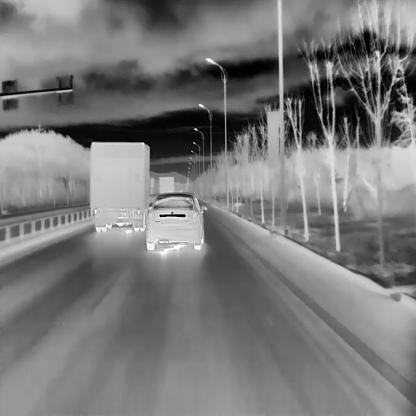car: (90, 141, 153, 231), (145, 191, 207, 249), (159, 176, 174, 199)
